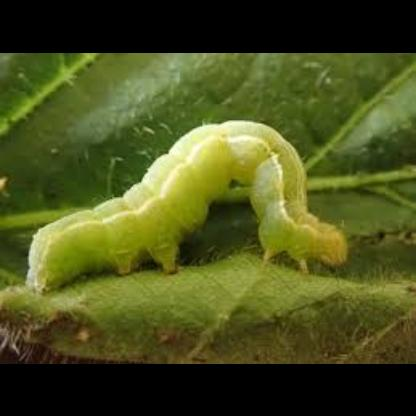oruga: (20, 108, 354, 304)
